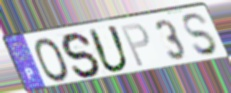3: (154, 18, 188, 62)
O: (33, 37, 73, 84)
P: (119, 22, 153, 70)
S: (60, 31, 102, 79), (181, 11, 221, 58)
U: (85, 24, 131, 75)
